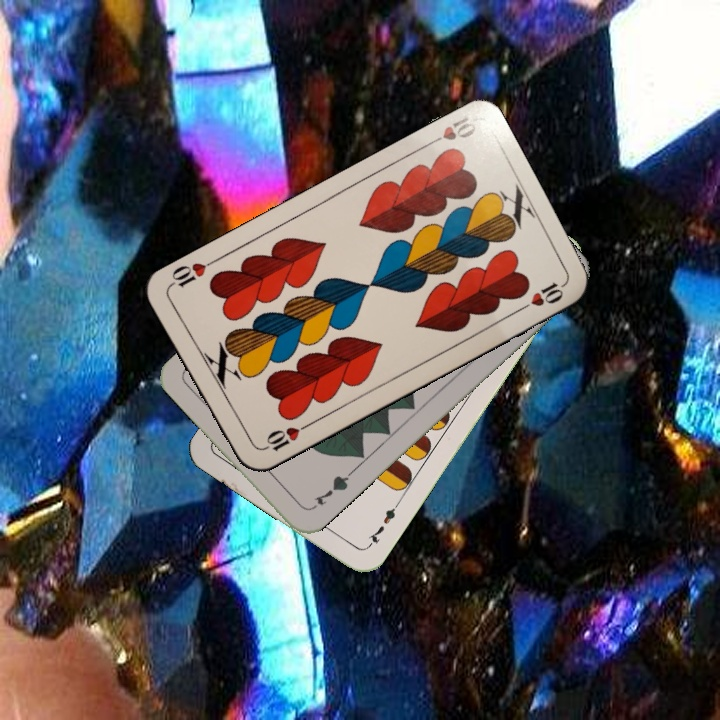E7: (363, 498, 402, 551)
G7: (307, 468, 354, 513)
H10: (422, 112, 479, 149), (256, 420, 311, 454)
